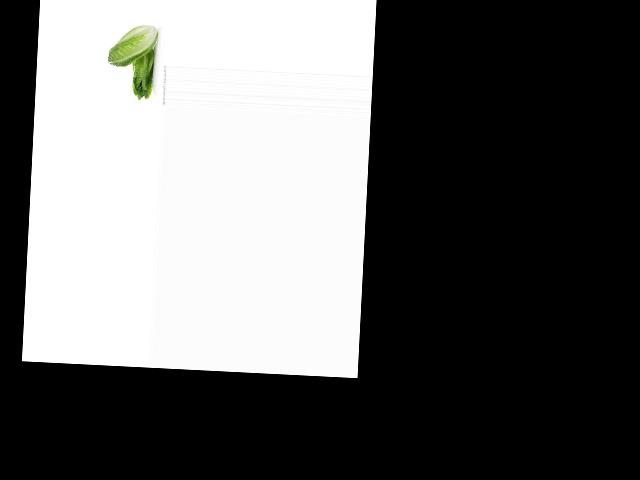lettuce: (125, 47, 161, 100)
